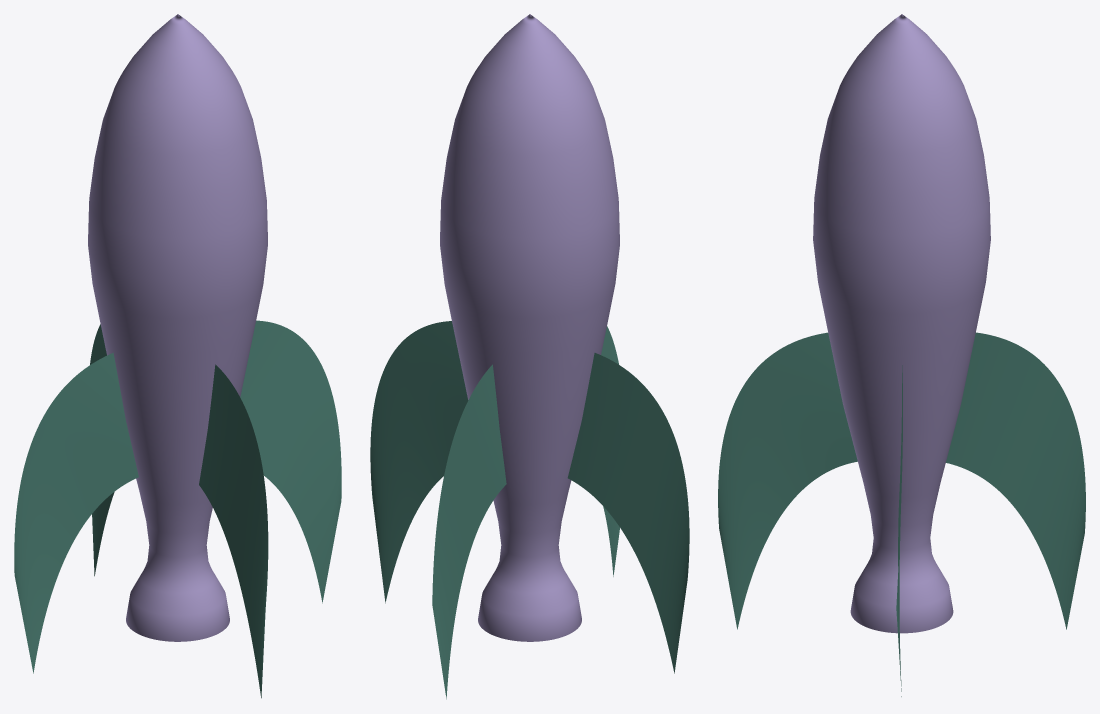
The model's file is rocket.obj.
3 renders of one model, left to right at view 1: azimuth 30°, elevation 25°; view 2: azimuth 150°, elevation 25°; view 3: azimuth 270°, elevation 25°, orthographic.
Parts seen in each view (by area): view 1: s.0012, s.0017, s.0016, s.0013, s.0014; view 2: s.0012, s.0017, s.0016, s.0014, s.0013; view 3: s.0012, s.0014, s.0013, s.0016.
Boxes of the visible parts, x1,y1,x2,y2 form: s.0012: (88,14,267,641); s.0017: (14,352,138,673); s.0016: (240,320,341,603); s.0013: (199,364,268,698); s.0014: (90,324,114,576); s.0012: (440,14,619,641); s.0017: (567,353,689,673); s.0016: (370,321,468,603); s.0014: (432,364,506,699); s.0013: (601,326,619,576); s.0012: (813,14,990,633); s.0014: (946,332,1085,629); s.0013: (718,332,857,629); s.0016: (896,365,902,696).
Bounding box in the file's own units: 0.3911 × 0.7231 × 0.3911.
